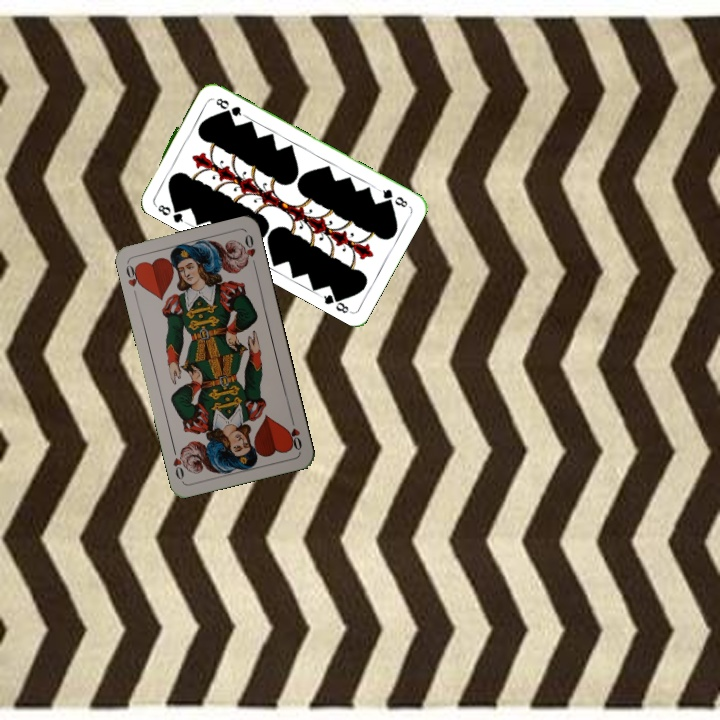G8: (150, 200, 188, 225), (374, 185, 410, 210)
HO: (284, 413, 304, 453), (122, 259, 145, 290)
